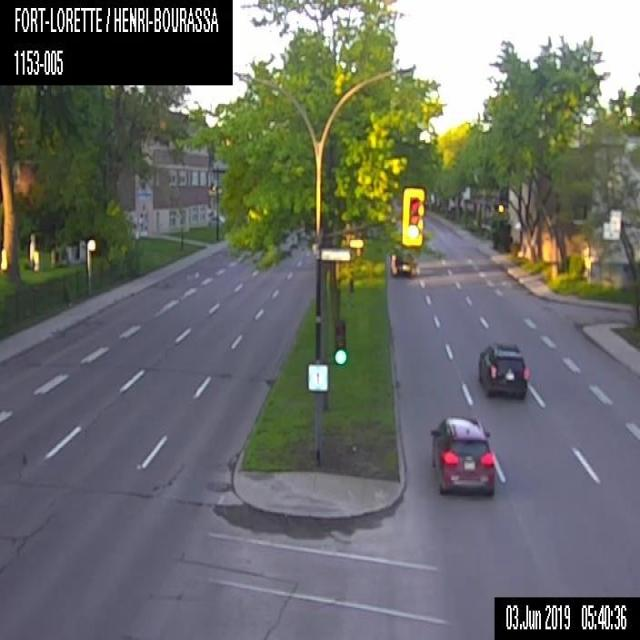vehicle: (429, 412, 495, 499), (476, 339, 528, 401), (389, 250, 418, 278)
